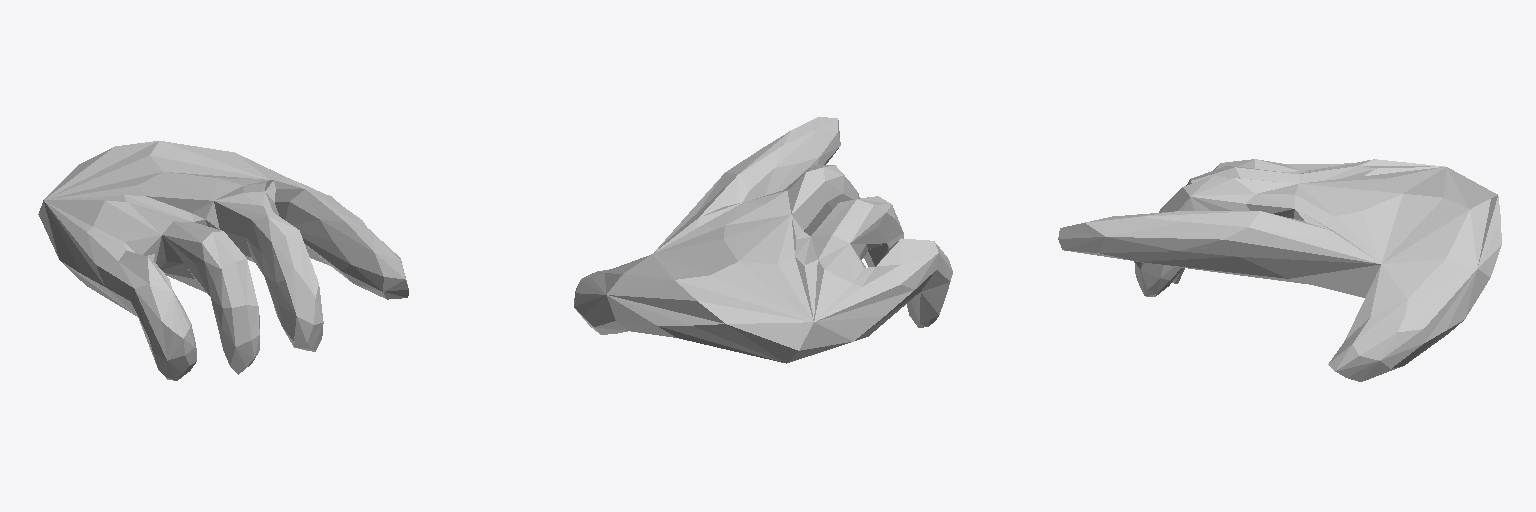
Rendered from Hand3.obj.
3 renders of one model, left to right at view 1: azimuth 30°, elevation 25°; view 2: azimuth 150°, elevation 25°; view 3: azimuth 270°, elevation 25°, orthographic.
Visible parts, largest first — view 1: Hand2; view 2: Hand2; view 3: Hand2.
Part boxes in pixels (x1,y1,x2,y2): Hand2: (38, 141, 408, 380); Hand2: (574, 117, 952, 363); Hand2: (1058, 159, 1501, 381).
Size of the model in its own units: 2.7 by 1.22 by 3.49.